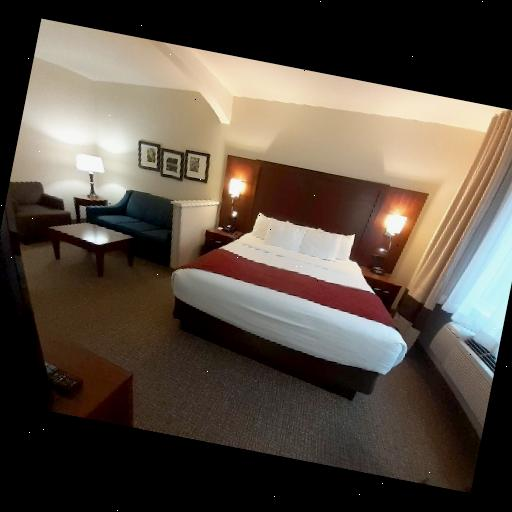clean_bed: (167, 155, 438, 403)
clean_floor: (20, 245, 481, 494)
lamp: (66, 150, 108, 207)
organised_pillow: (248, 212, 359, 264)
